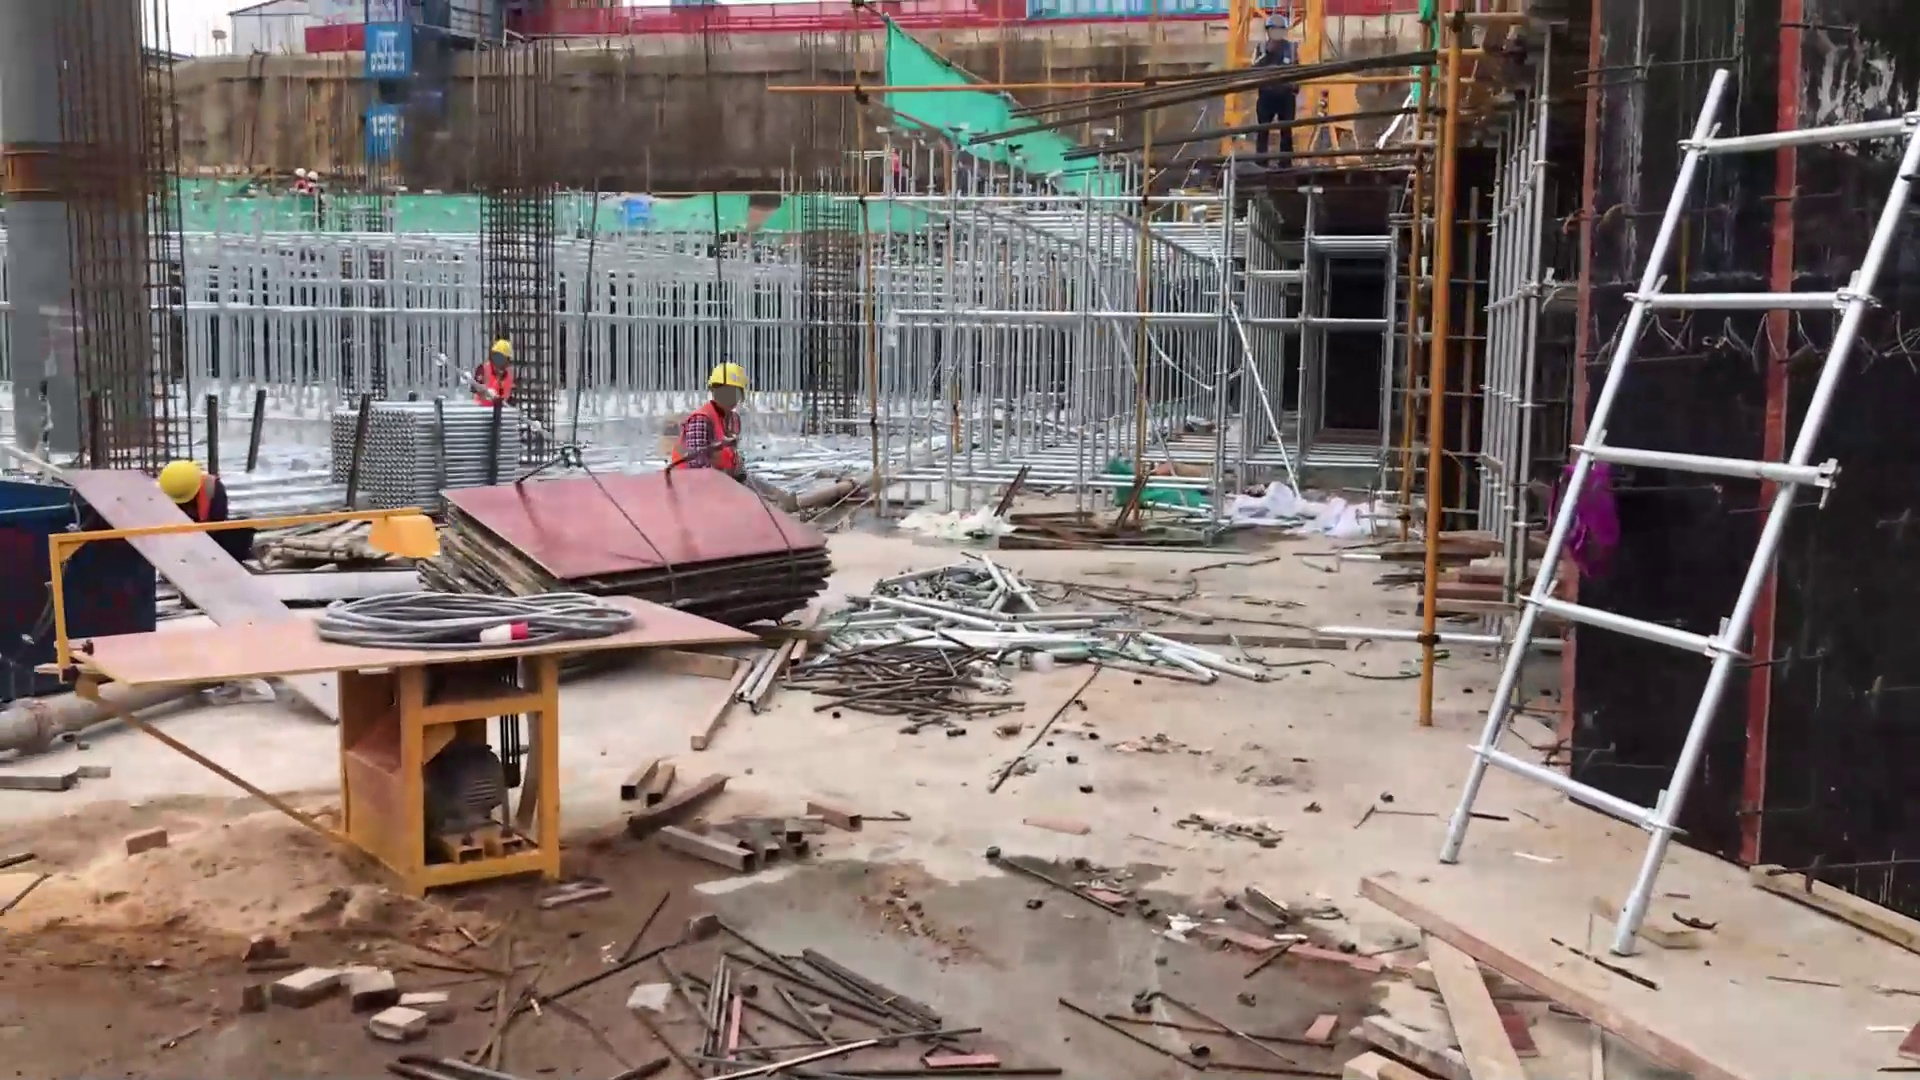board: (432, 465, 839, 640)
cutter: (46, 504, 764, 905)
ebox: (1314, 75, 1363, 166)
helmet: (155, 455, 204, 503), (704, 359, 752, 402), (490, 338, 514, 365), (1264, 13, 1288, 32), (306, 169, 318, 183), (294, 167, 306, 179)
hopper: (1, 471, 170, 713)
person: (155, 456, 257, 568), (670, 357, 752, 487), (1248, 14, 1302, 171), (468, 339, 517, 409)
scaffold: (329, 397, 521, 516)
slogan: (1030, 1, 1228, 22), (364, 21, 414, 77)
vest: (669, 400, 744, 477), (472, 359, 513, 408)
